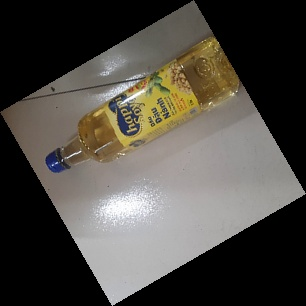Happy Soya: (43, 35, 243, 177)
